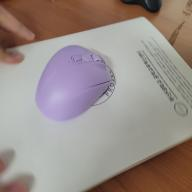mouse: (35, 44, 110, 122)
